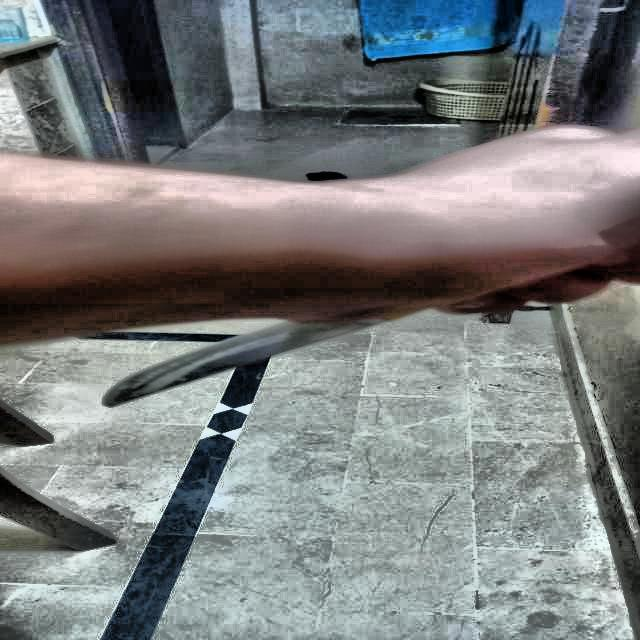knife: (105, 322, 377, 406)
